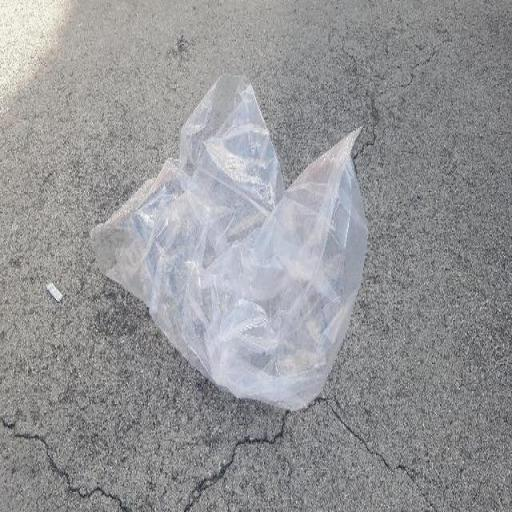plastic-bag: (88, 68, 372, 418)
